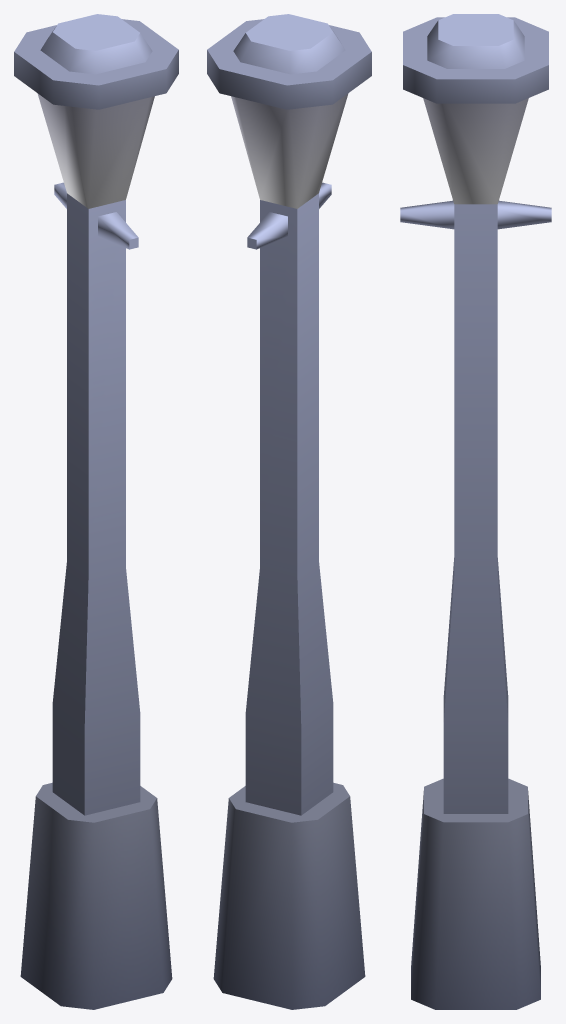
Rendered from lantern.obj.
The picture shows the model from 3 angles, left to right: view 1: azimuth 30°, elevation 25°; view 2: azimuth 150°, elevation 25°; view 3: azimuth 270°, elevation 25°; orthographic projection.
Visible parts, largest first — view 1: lantern; view 2: lantern; view 3: lantern.
Boxes of the visible parts, x1=… form: lantern: x1=14, y1=14, x2=178, y2=1009; lantern: x1=207, y1=14, x2=371, y2=1009; lantern: x1=400, y1=14, x2=551, y2=1009.
Bounding box in the file's own units: 0.2164 × 1.56 × 0.2243.
1 material, 1 textured.
